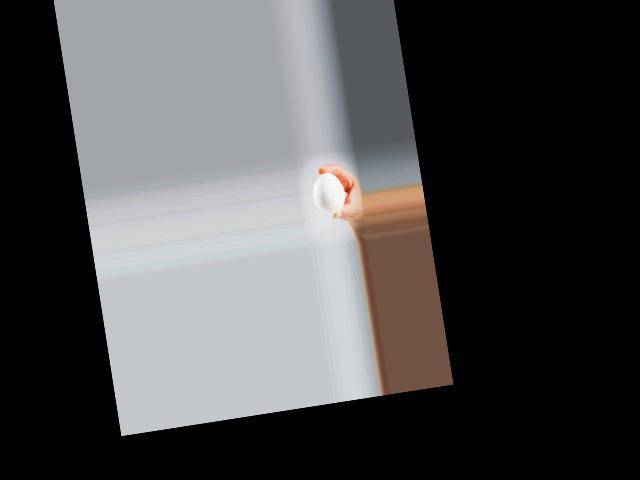egg: (310, 170, 347, 215)
